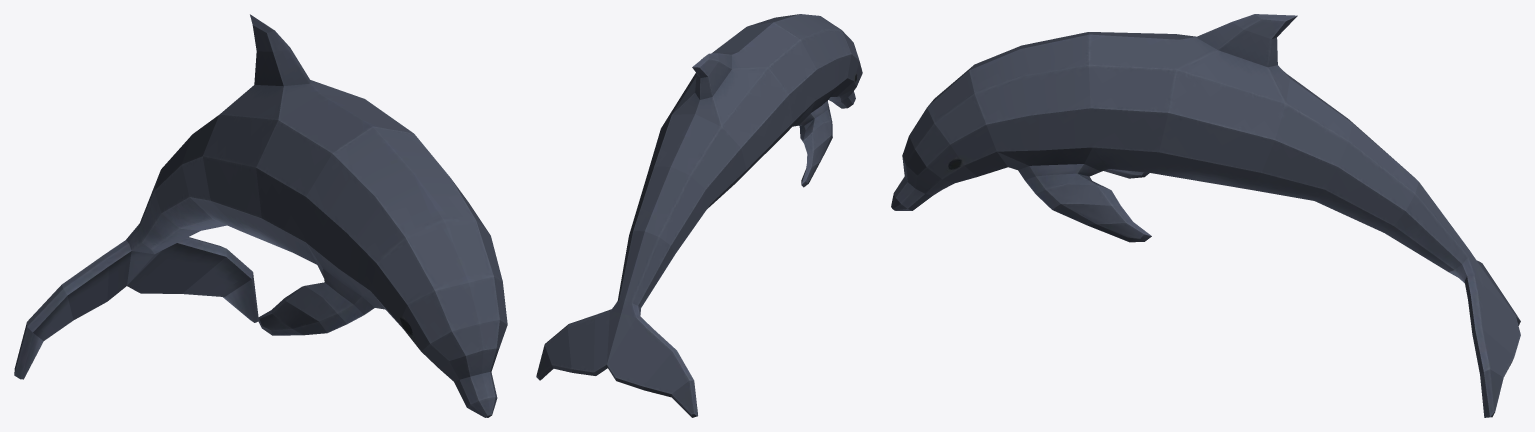
Rendered from dolphin.glb.
3 views of the same model, side by side, from view 1: azimuth 30°, elevation 25°; view 2: azimuth 150°, elevation 25°; view 3: azimuth 270°, elevation 25° (orthographic). The views are drawn at different scales.
Visible parts, largest first — view 1: Dolphin_mesh; view 2: Dolphin_mesh; view 3: Dolphin_mesh.
Part boxes in pixels (<box>): Dolphin_mesh: <box>14,14,507,417</box>; Dolphin_mesh: <box>536,14,862,417</box>; Dolphin_mesh: <box>891,14,1520,417</box>.
Size of the model in its own units: 5.63 by 9.25 by 14.84.
1 material, 1 textured.
